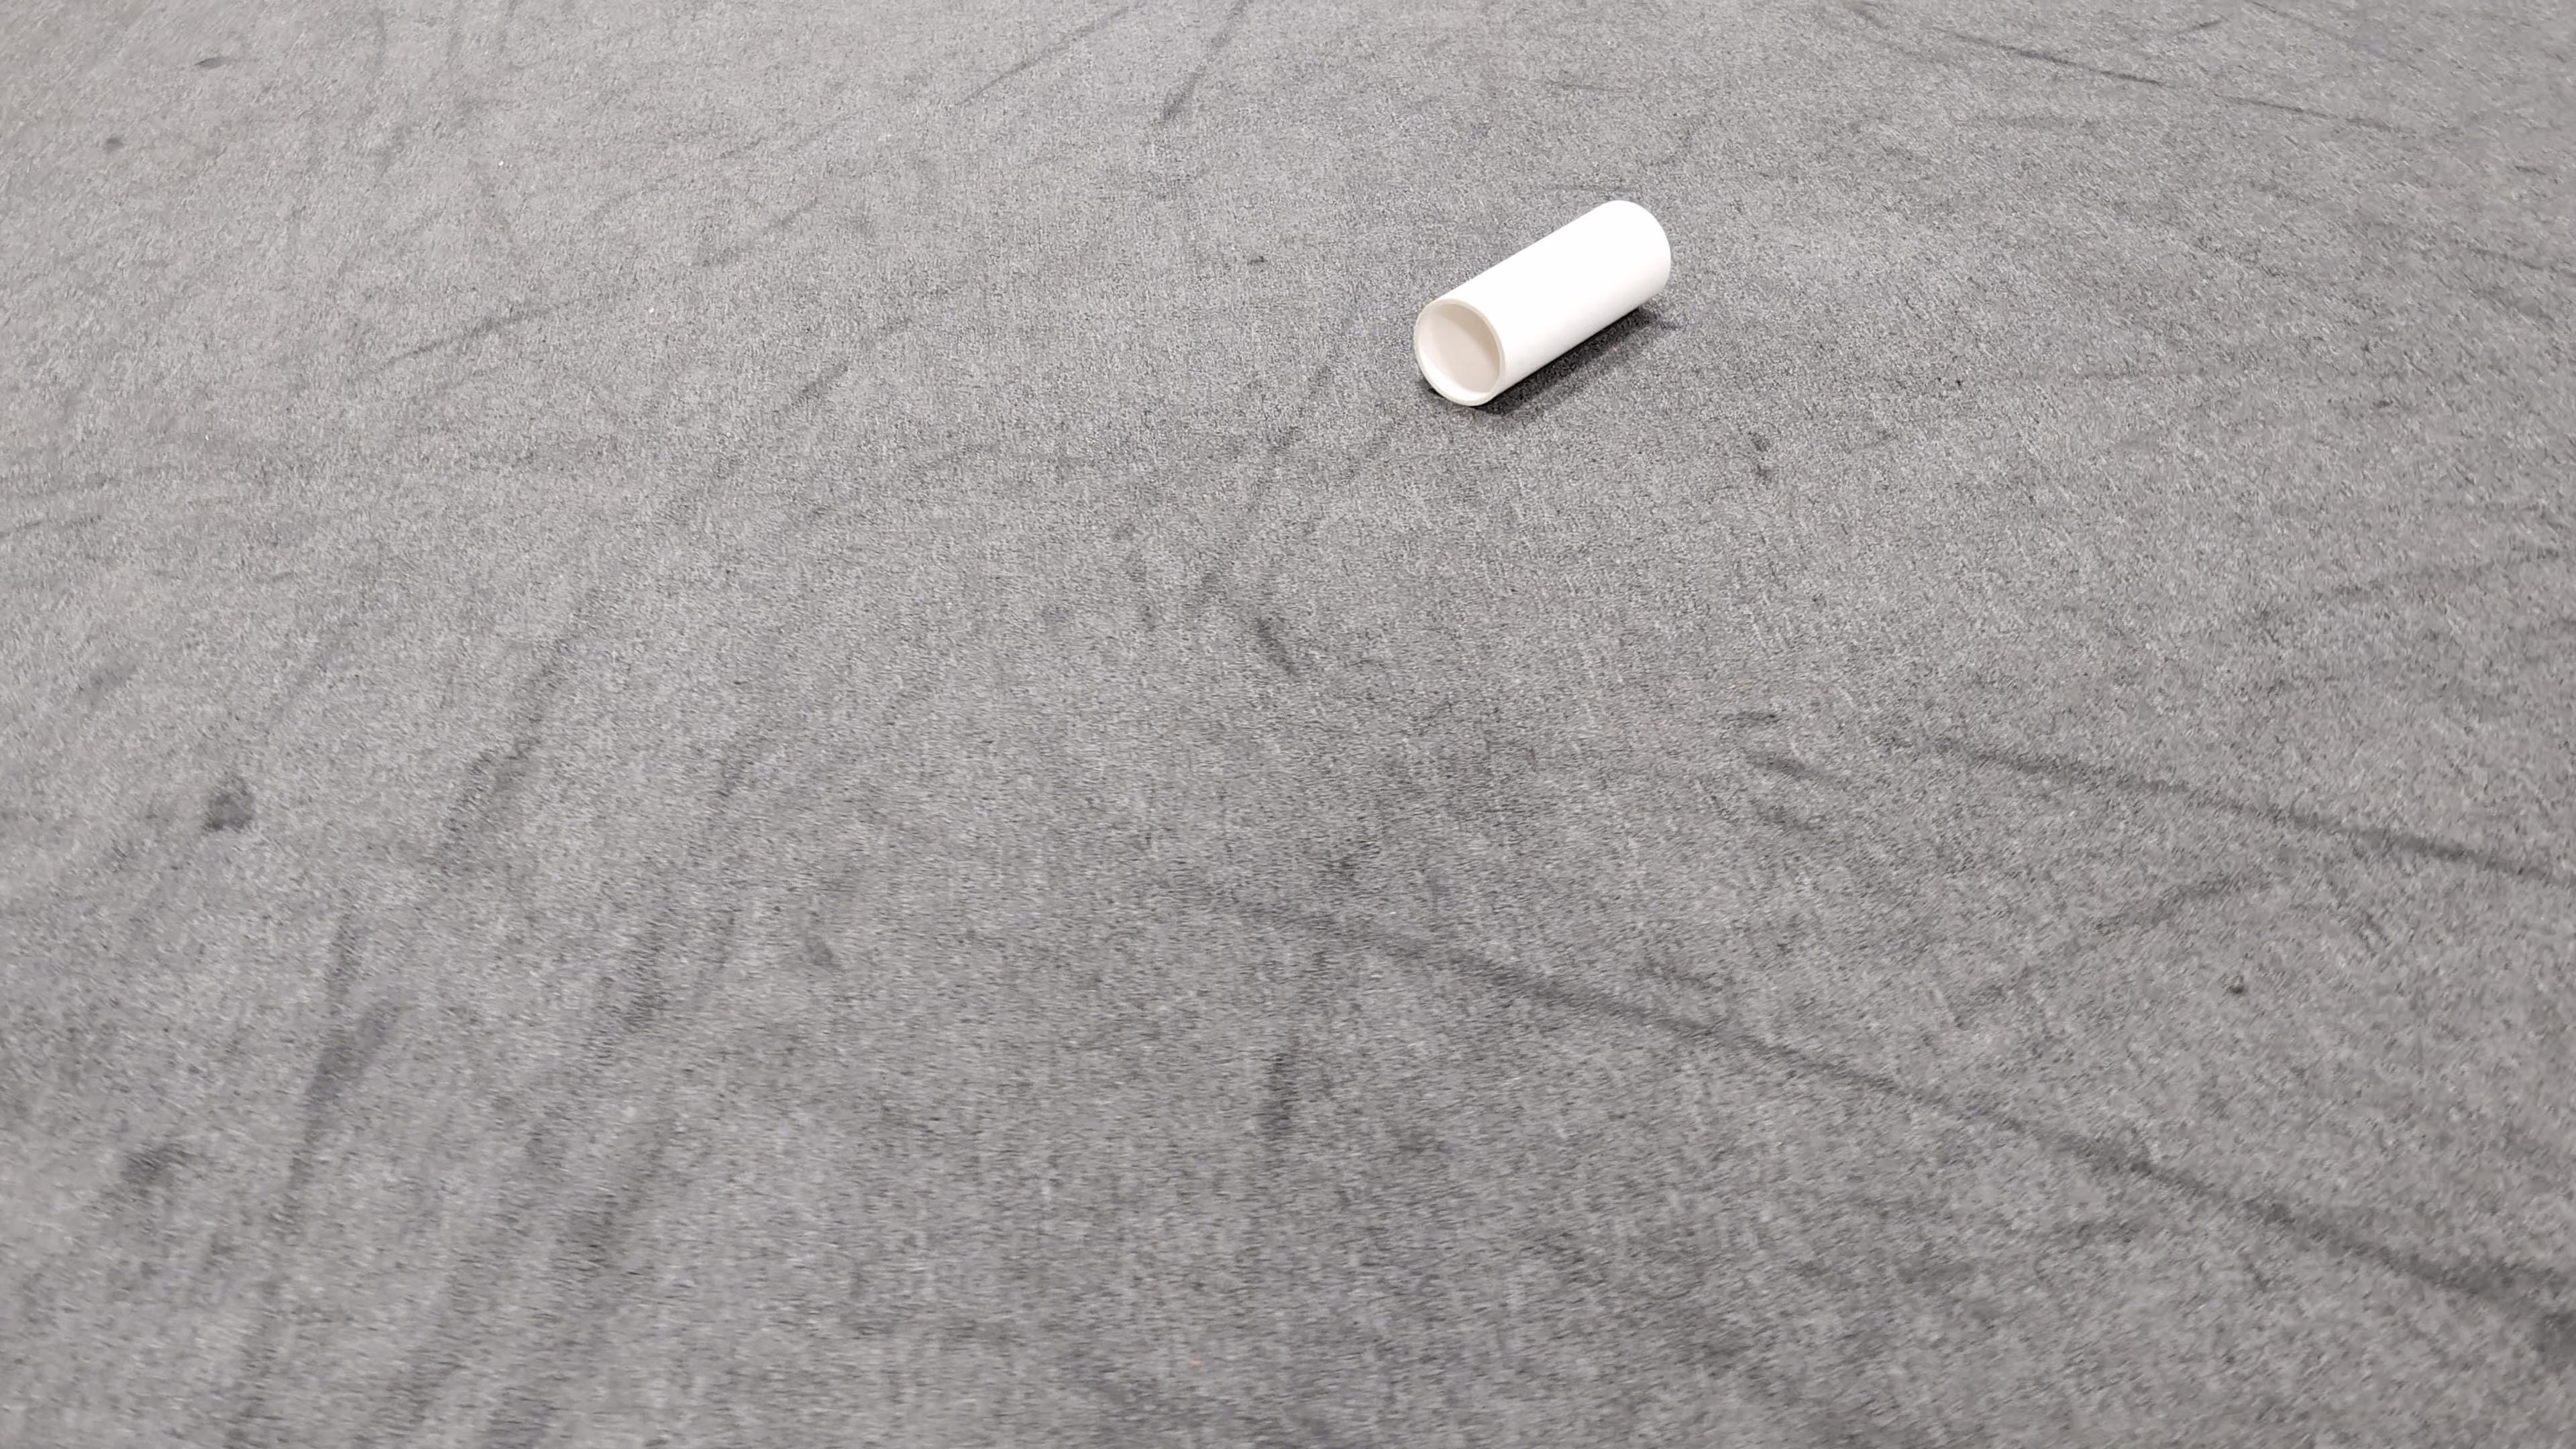coral: (1414, 195, 1670, 407)
